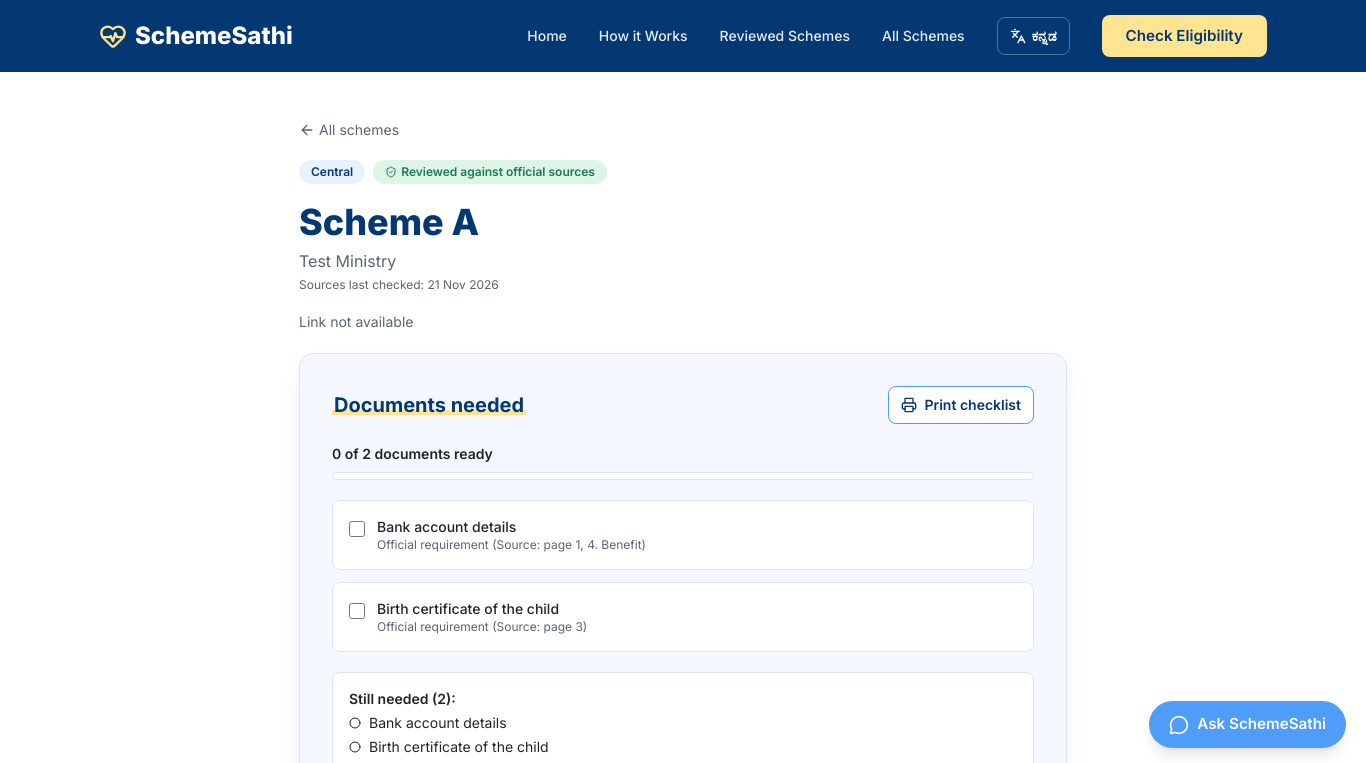
scheme details checklist › C2: ticking 'I have this' updates progress and the still-needed list
This screenshot has width=1366, height=763.
Click the checkbox labelled "Bank account details". click: (357, 529)
box: [349,521,365,537]
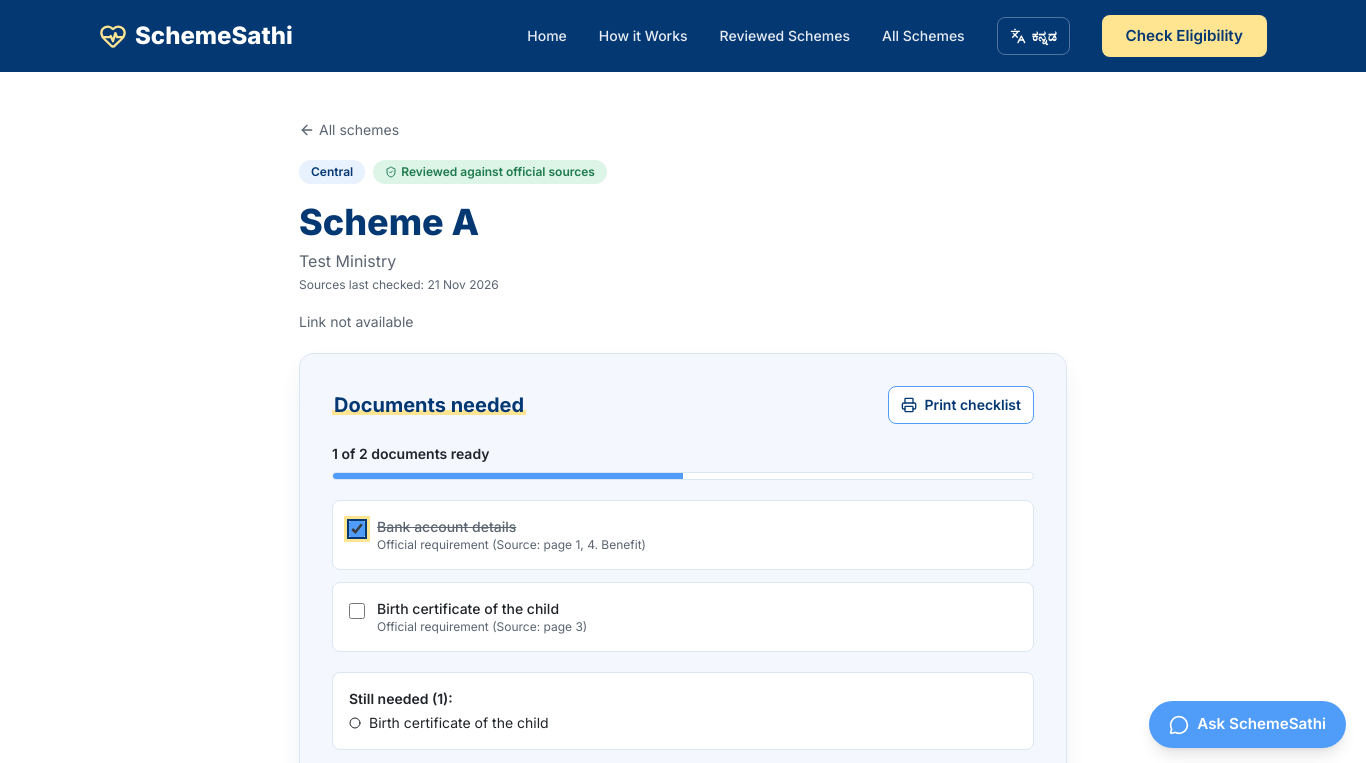
expect the element named "Checklist summary" shows "Birth certificate of the child": met, box [369,714,549,731]
expect the message reads "1 of 2 documents ready": met, box [332,445,490,462]
expect the element named "Checklist summary" shows "Still needed (1)": met, box [349,690,453,707]
Click the checkbox labelled "Birth certificate". click: (357, 611)
box: [349,603,365,619]
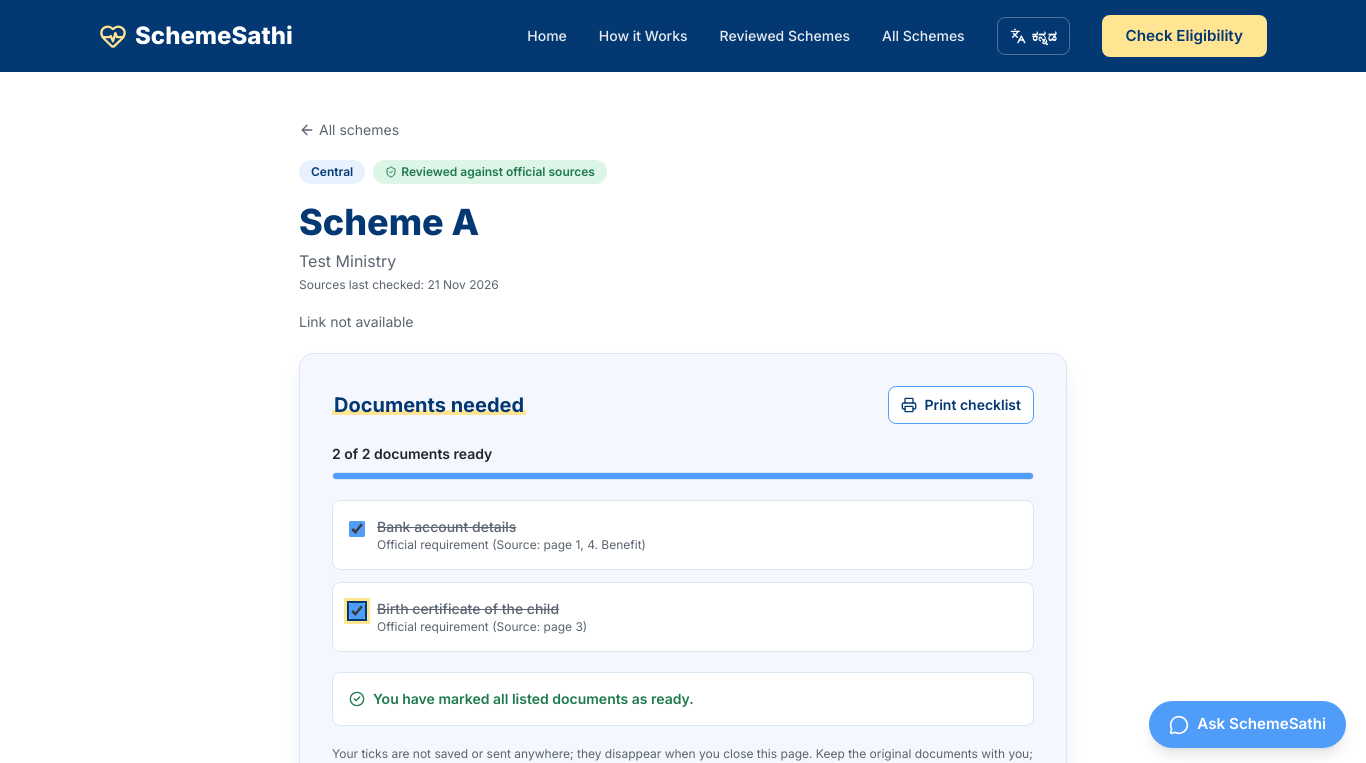
expect the element named "Checklist summary" shows "marked all listed documents as ready": met, box [373,690,694,707]
Click the checkbox labelled "Birth certificate". click: (357, 611)
box: [349,603,365,619]
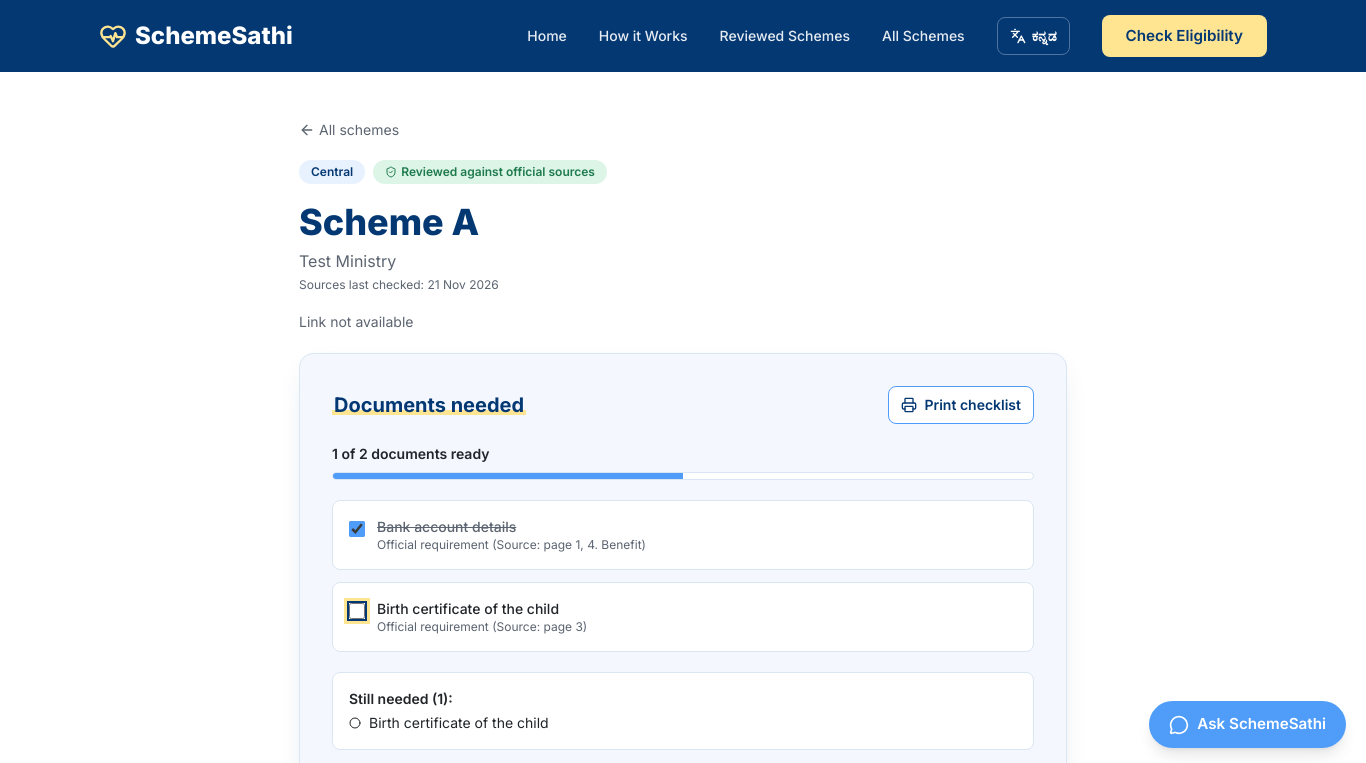
expect the message reads "1 of 2 documents ready": met, box [332,445,490,462]
